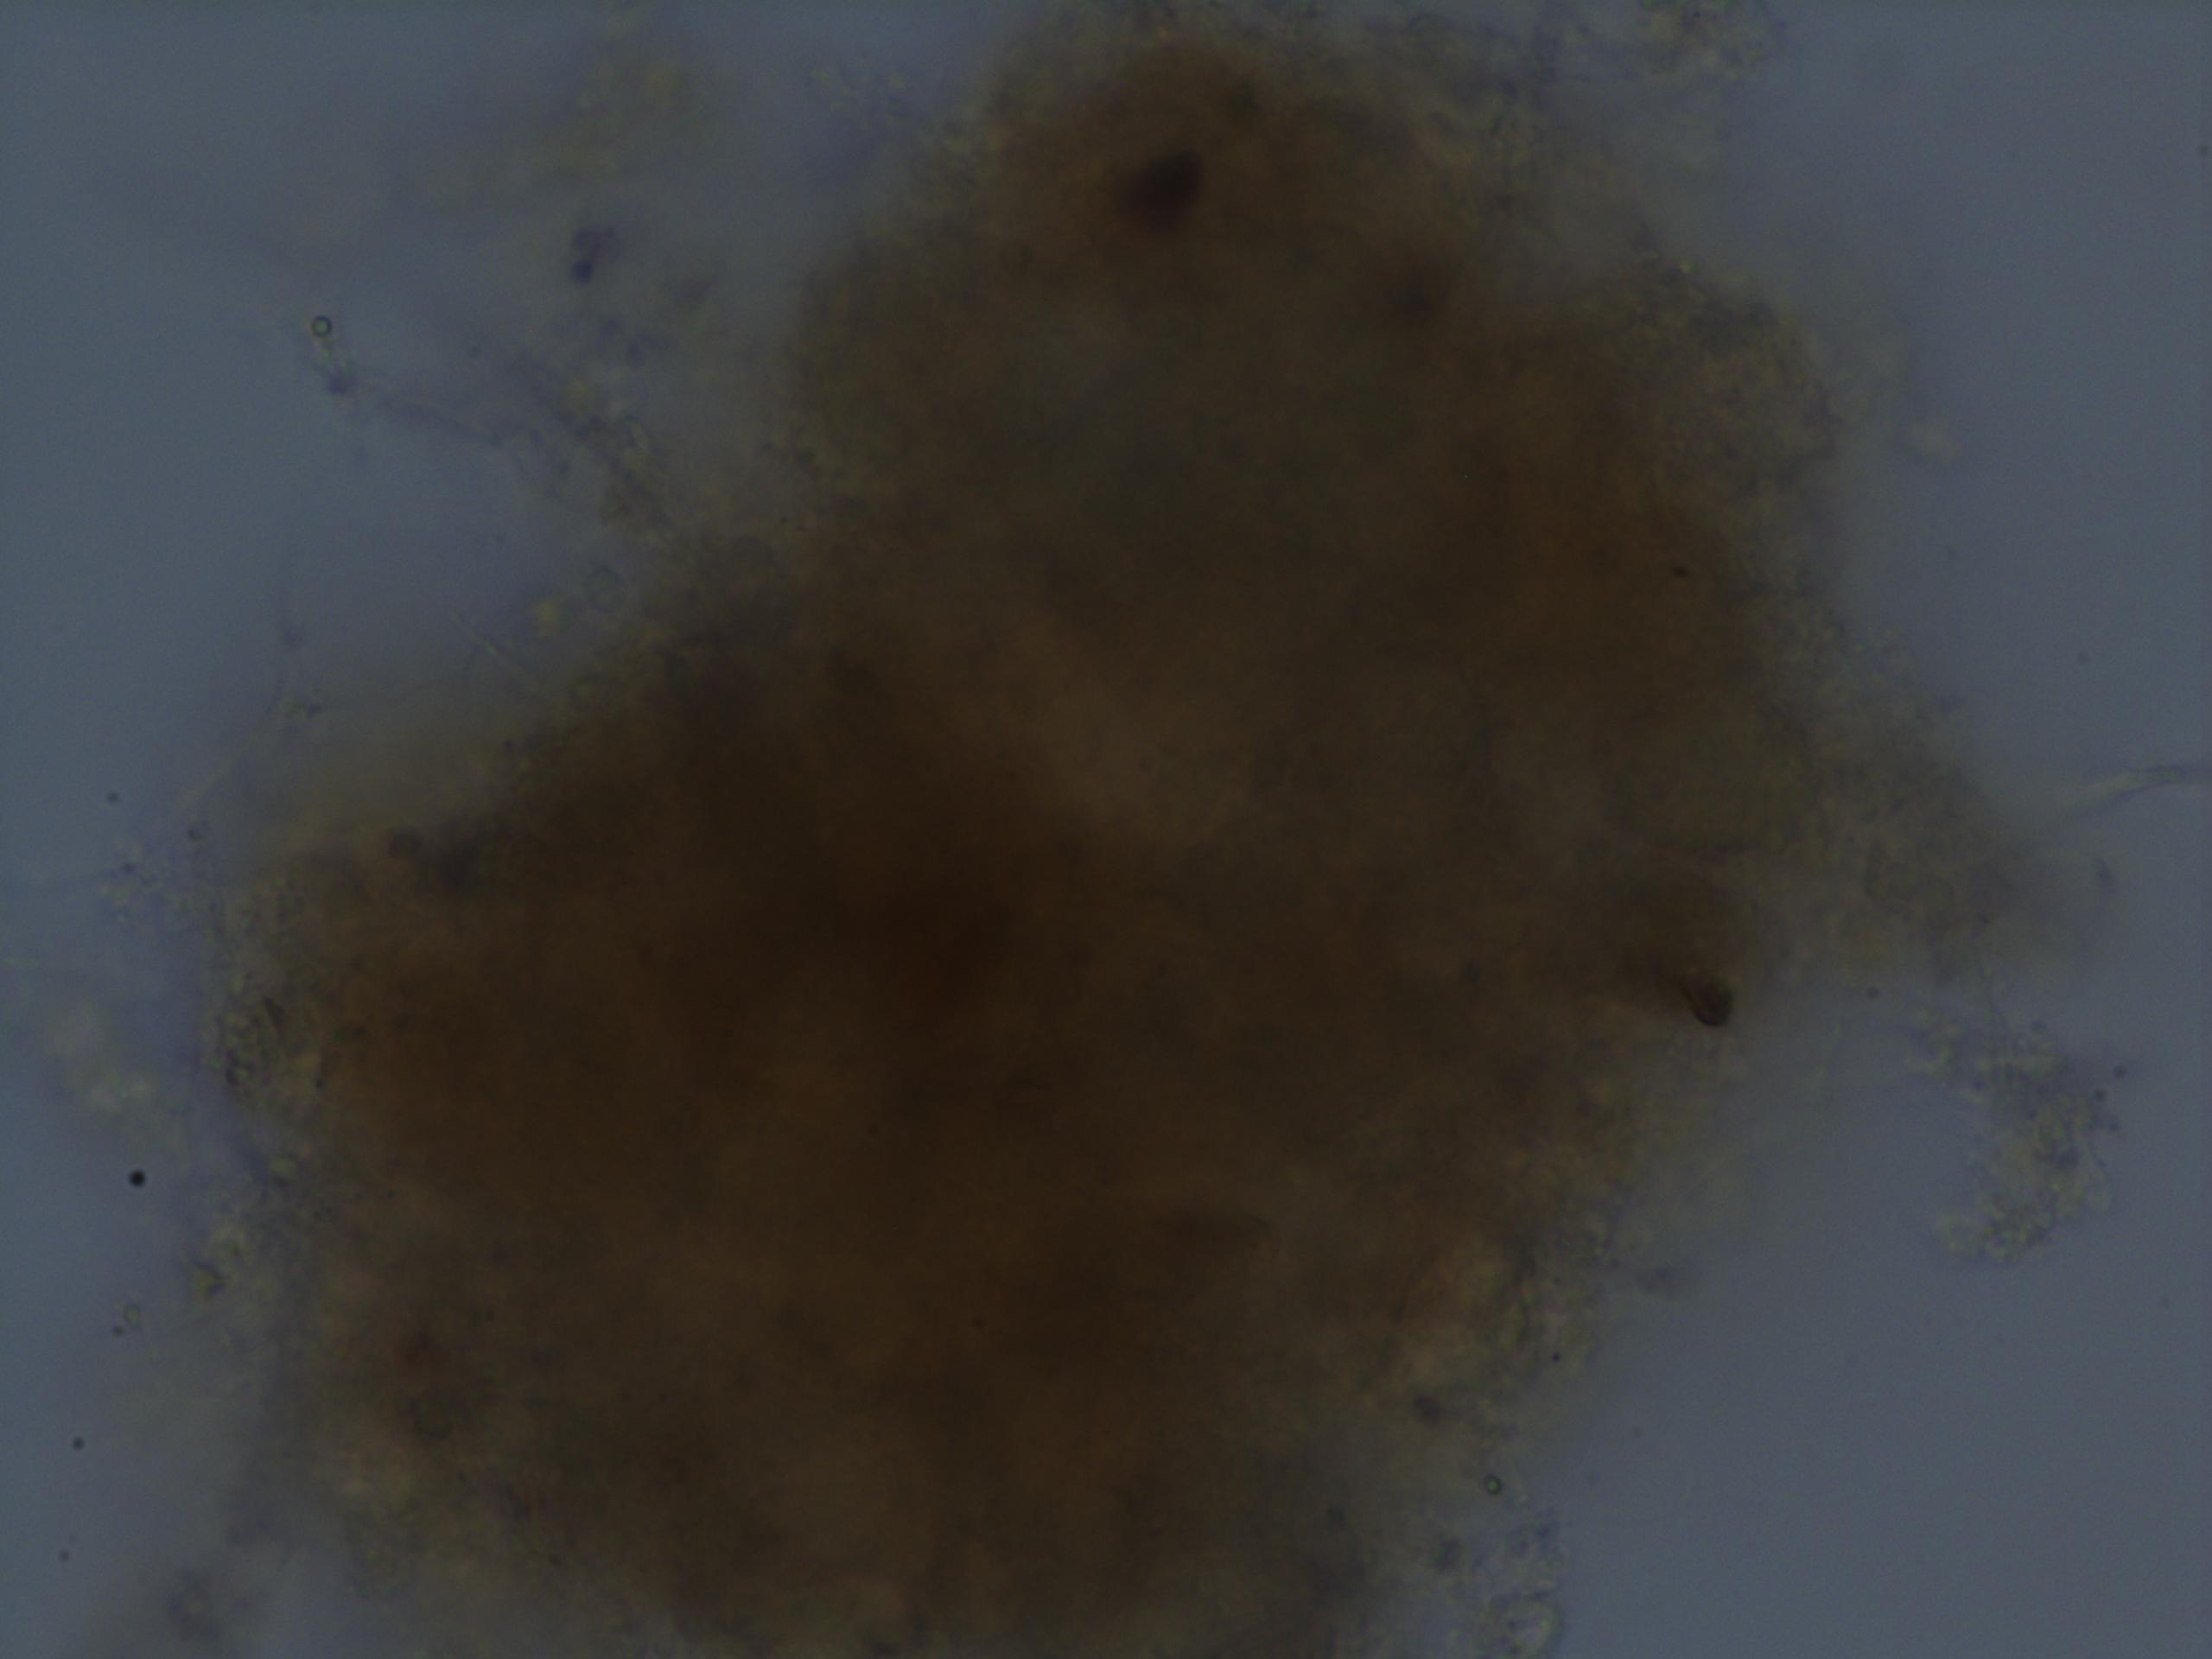filament: (280, 284, 679, 544)
spherical_floc: (209, 0, 1923, 1659)
